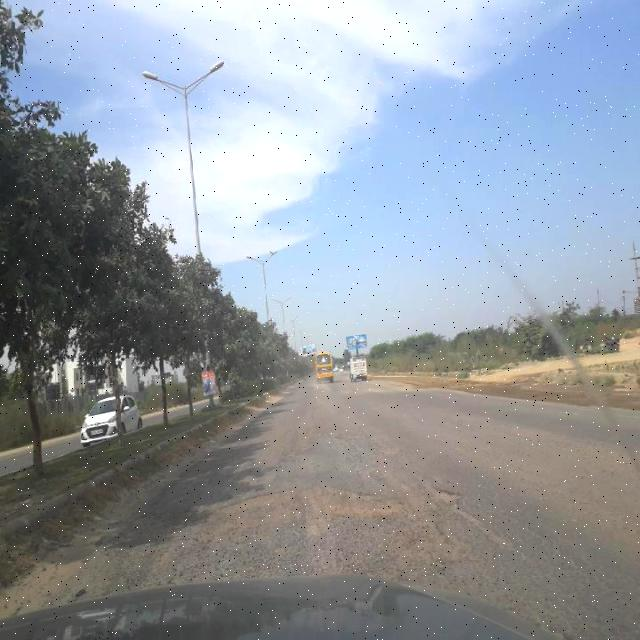D20: (418, 432, 623, 632)
D40: (1, 466, 484, 602), (297, 418, 409, 460), (428, 470, 472, 511)
